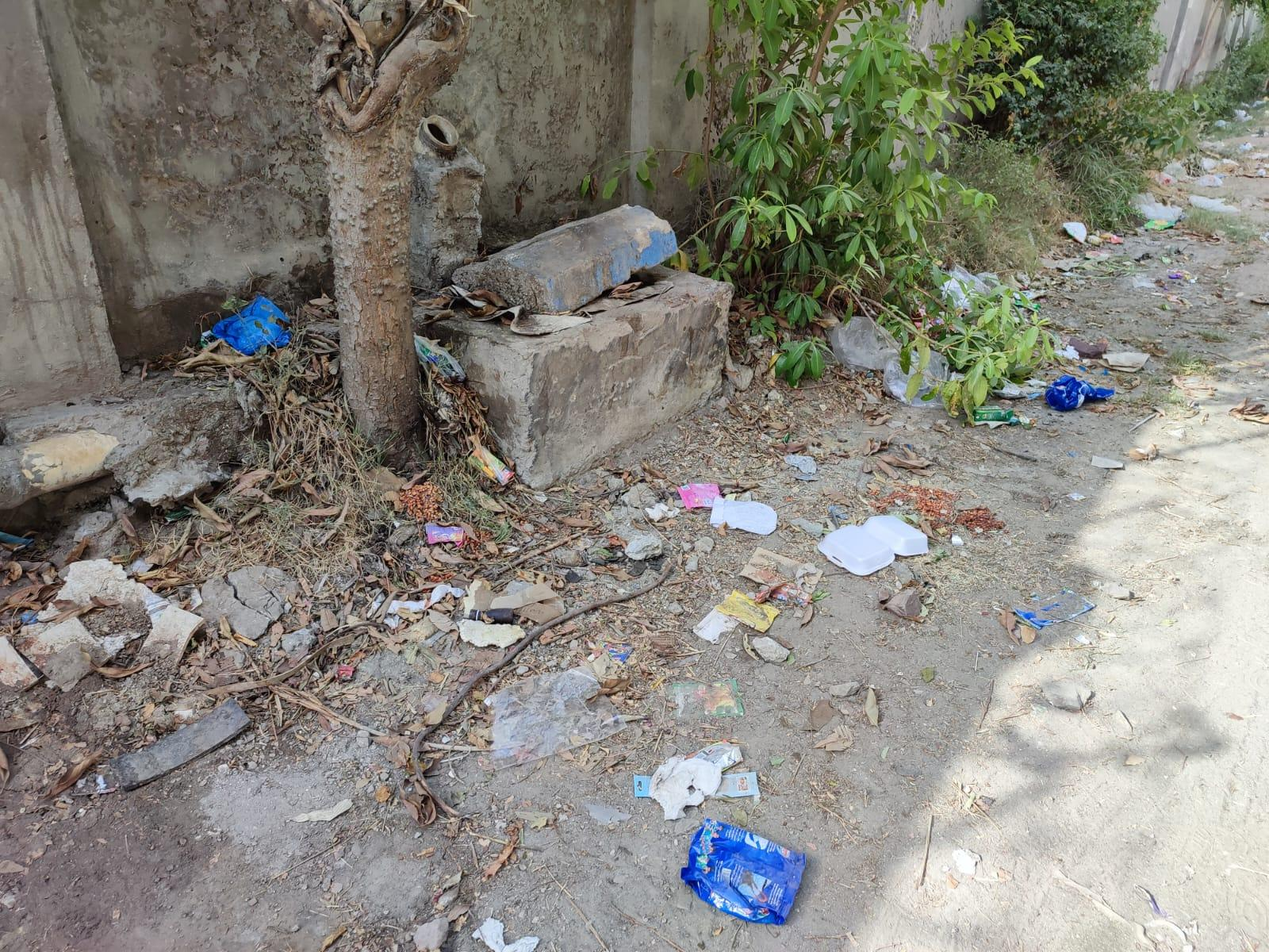garbage: (645, 319, 1110, 946), (375, 326, 593, 516)
